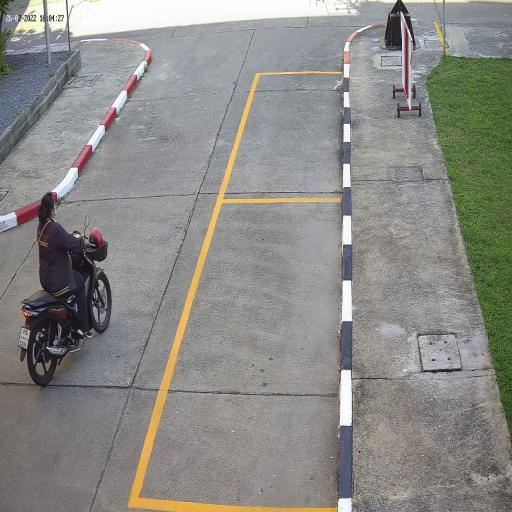motorcycle: (18, 275, 114, 389)
